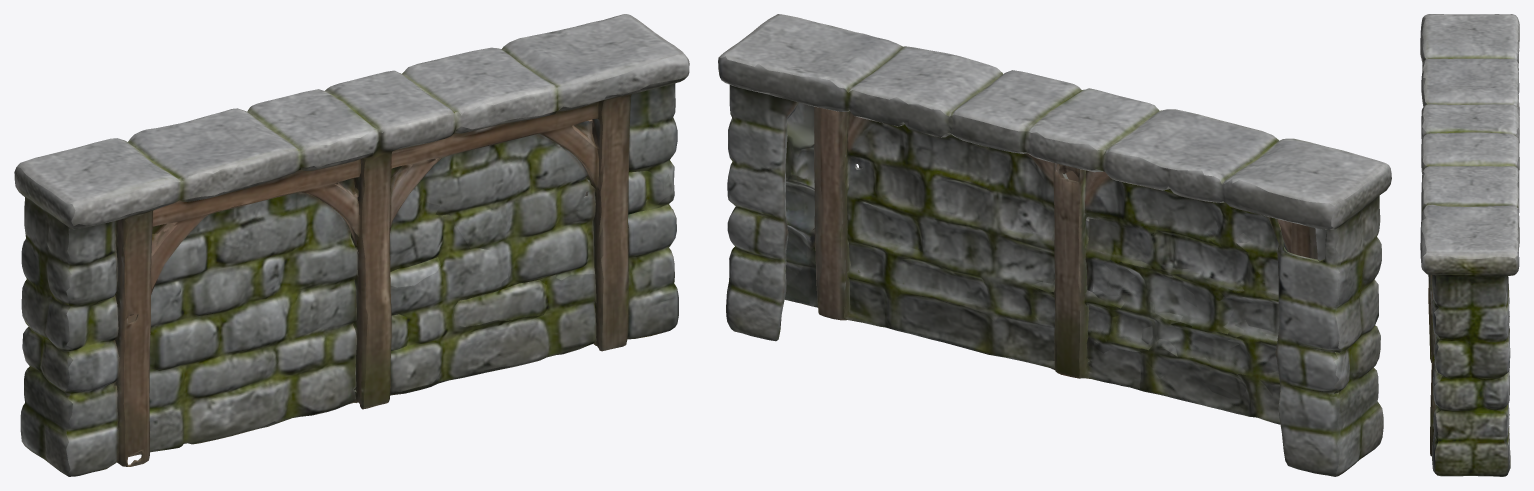
The model's file is stone_wall.glb.
3 renders of one model, left to right at view 1: azimuth 30°, elevation 25°; view 2: azimuth 150°, elevation 25°; view 3: azimuth 270°, elevation 25°, orthographic. The views are drawn at different scales.
Visible parts, largest first — view 1: geometry_0; view 2: geometry_0; view 3: geometry_0.
Part boxes in pixels (x1=…): geometry_0: x1=14, y1=14, x2=689, y2=476; geometry_0: x1=718, y1=14, x2=1391, y2=476; geometry_0: x1=1420, y1=14, x2=1519, y2=476.
Size of the model in its own units: 3 by 1.31 by 0.5169.
1 material, 1 textured.
